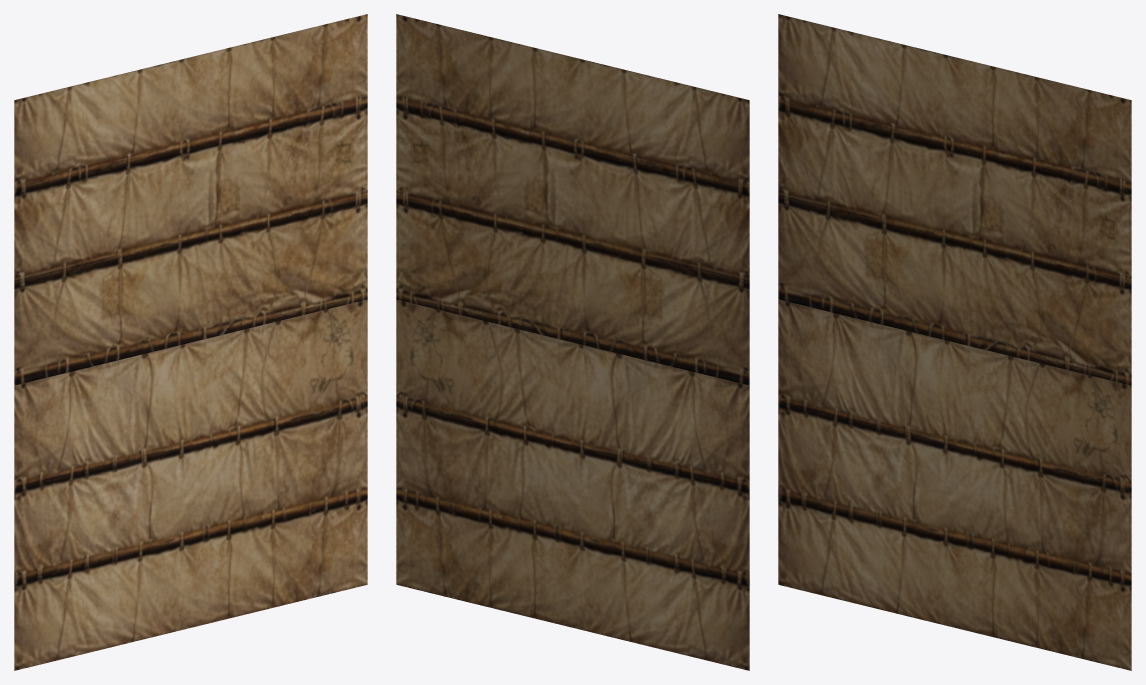
Rendered from sail.glb.
3 renders of one model, left to right at view 1: azimuth 30°, elevation 25°; view 2: azimuth 150°, elevation 25°; view 3: azimuth 330°, elevation 25°, orthographic.
Parts seen in each view (by area): view 1: sail; view 2: sail; view 3: sail.
Boxes of the visible parts, x1,y1,x2,y2 form: sail: (14, 14, 367, 670); sail: (396, 14, 749, 670); sail: (778, 14, 1131, 670).
Bounding box in the file's own units: 10.11 × 15.6 × 0.
Materials: 1 (1 with a texture image).
